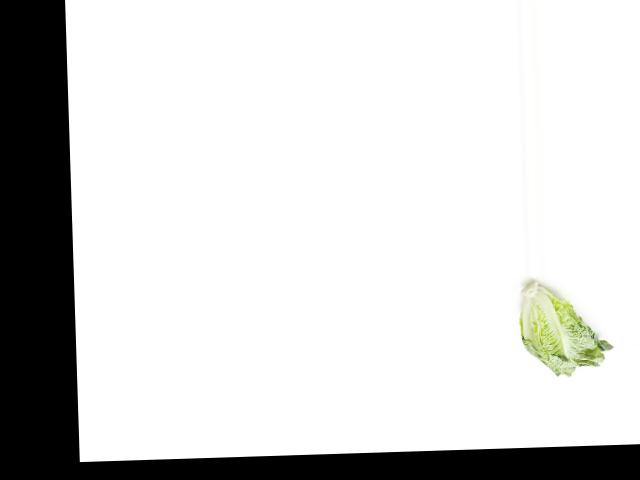lettuce: (515, 281, 613, 382)
